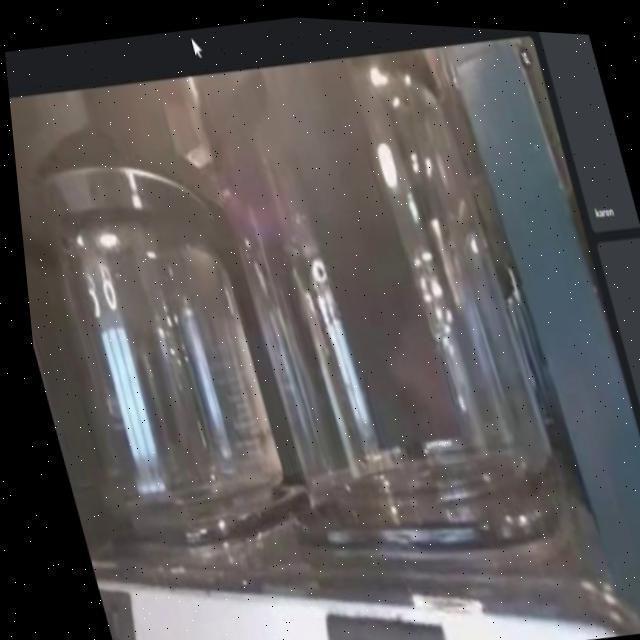nocoffee: (171, 22, 587, 580), (8, 102, 300, 550)
